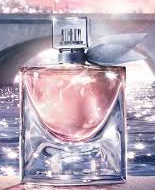lancome_la_vie_est_belle: (15, 11, 149, 189)
